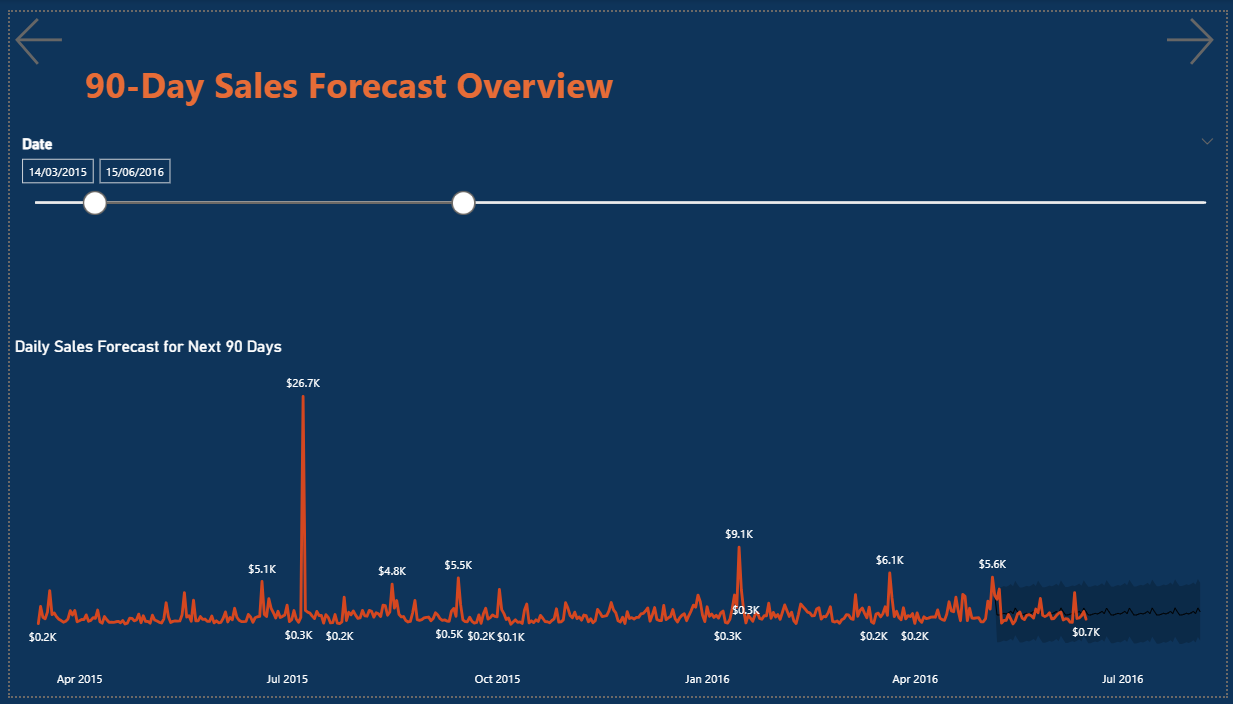

Layout of this report page (visuals, bound fields, positions):
{"tool":"powerbi","page":{"name":"Forecast","canvas":[1280,720],"ordinal":5},"visuals":[{"type":"lineChart","title":"Daily Sales Forecast for Next 90 Days","fields":{"Y":["Sales.Total Sales"],"Category":["Date.Date"]},"box":[0,342.7,1280,378.7],"z":0},{"type":"slicer","fields":{"Values":["Date.Date"]},"box":[0,125.1,1280,200.7],"z":1000},{"type":"actionButton","box":[0,0,69.3,62],"z":2000},{"type":"textbox","box":[34.7,46.7,852,64],"z":3000},{"type":"actionButton","box":[1210.7,0,71.1,62],"z":4000}]}

Visuals, with their boxes in screenshot pixels (x1, y1, x2, y2), scaled from the page's 1280x720 canvas onto the 1233x704 screenshot:
"Daily Sales Forecast for Next 90 Days" lineChart: rect(0, 335, 1232, 703)
slicer - Date.Date: rect(0, 122, 1232, 319)
actionButton: rect(0, 0, 67, 61)
textbox: rect(33, 46, 854, 108)
actionButton: rect(1166, 0, 1232, 61)
